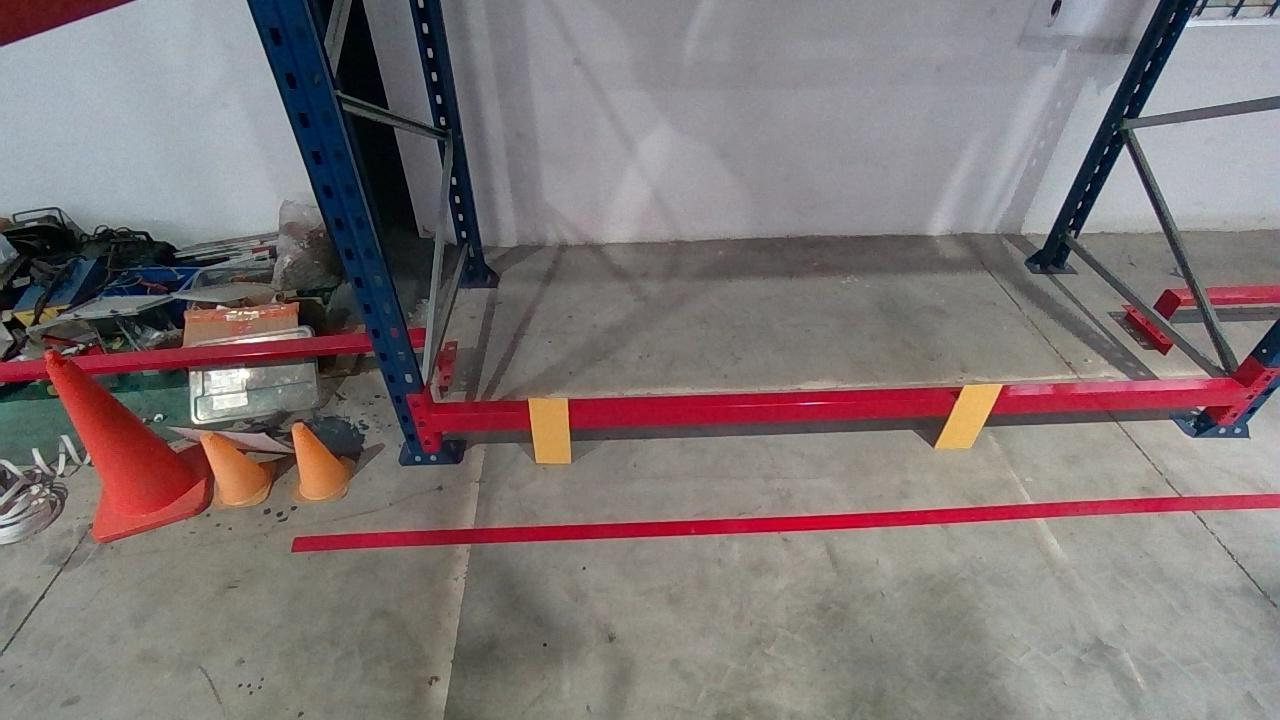h_rack: (434, 389, 1244, 429)
orange_strip: (934, 383, 1005, 449), (528, 397, 571, 461)
red_line: (285, 492, 1271, 551)
